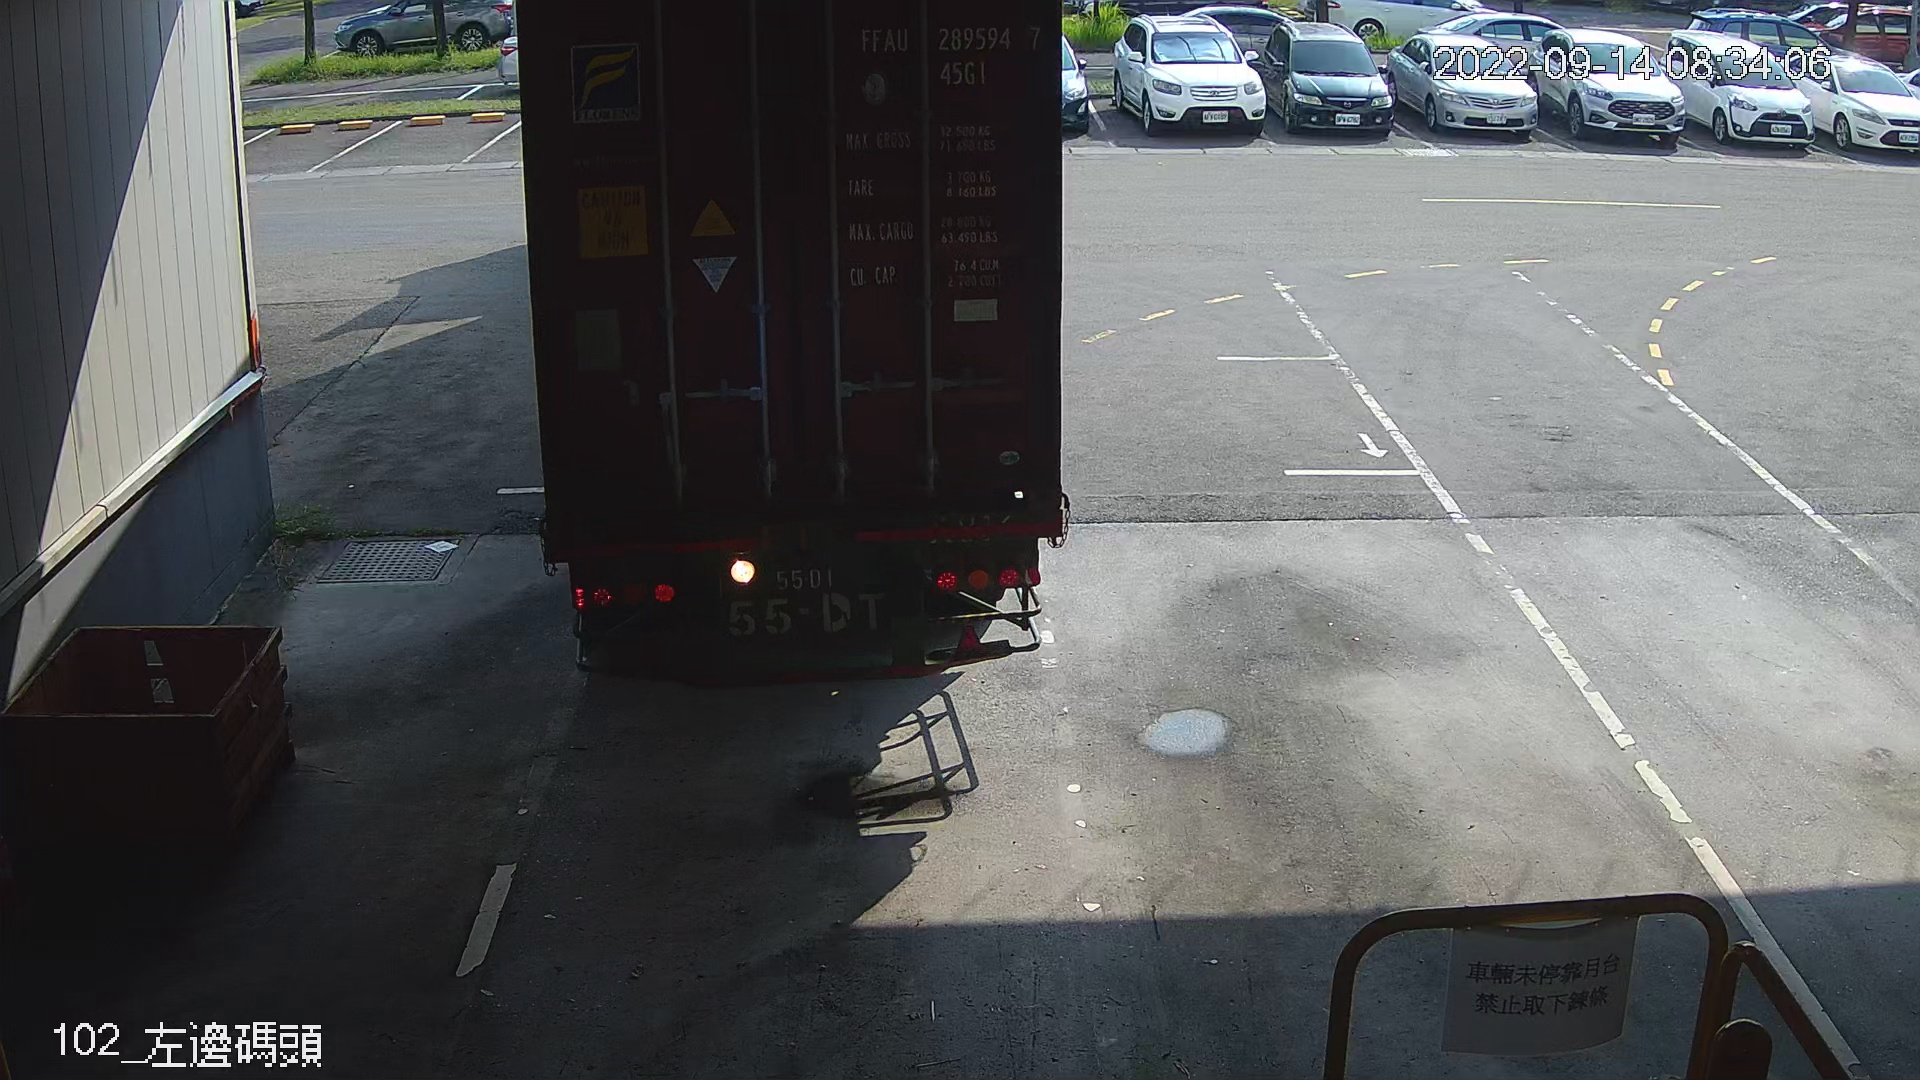container: (851, 15, 1054, 94)
